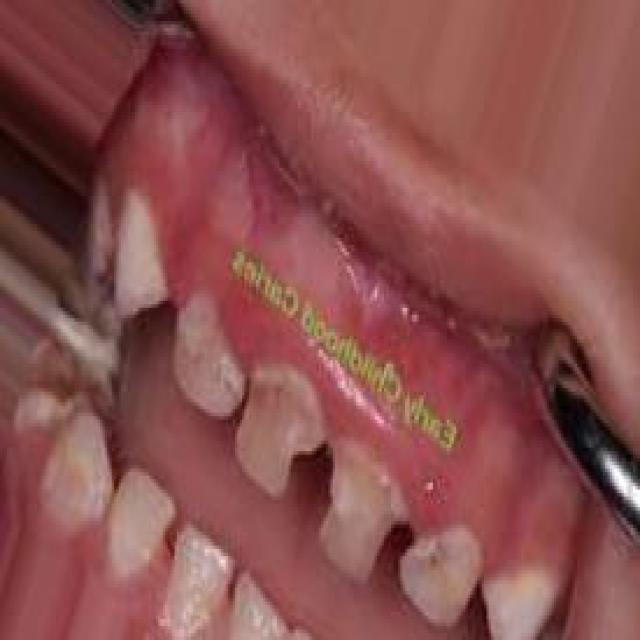caries: (314, 430, 407, 586), (397, 518, 502, 632), (19, 327, 118, 444), (237, 360, 321, 496), (162, 289, 243, 424)
